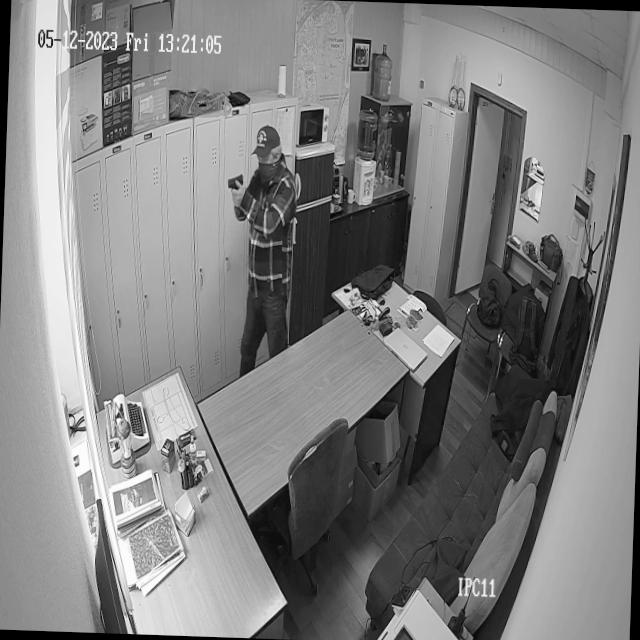gun: (219, 169, 246, 186)
person with a gun: (226, 112, 304, 376)
